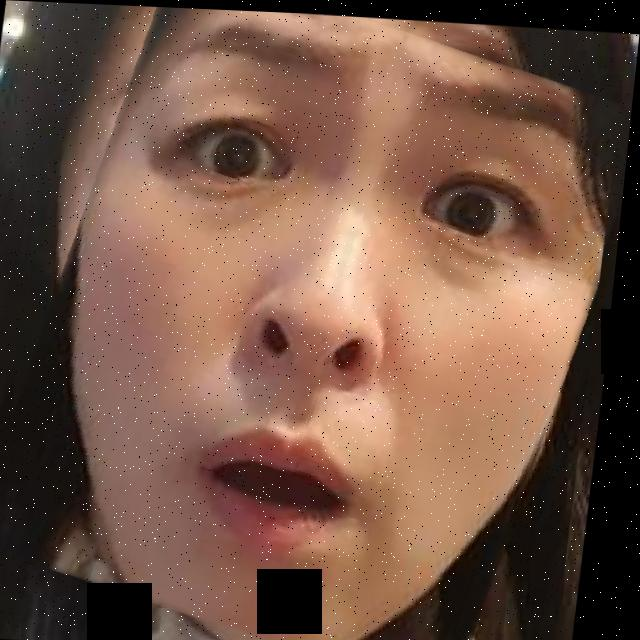fear: (0, 1, 629, 640)
